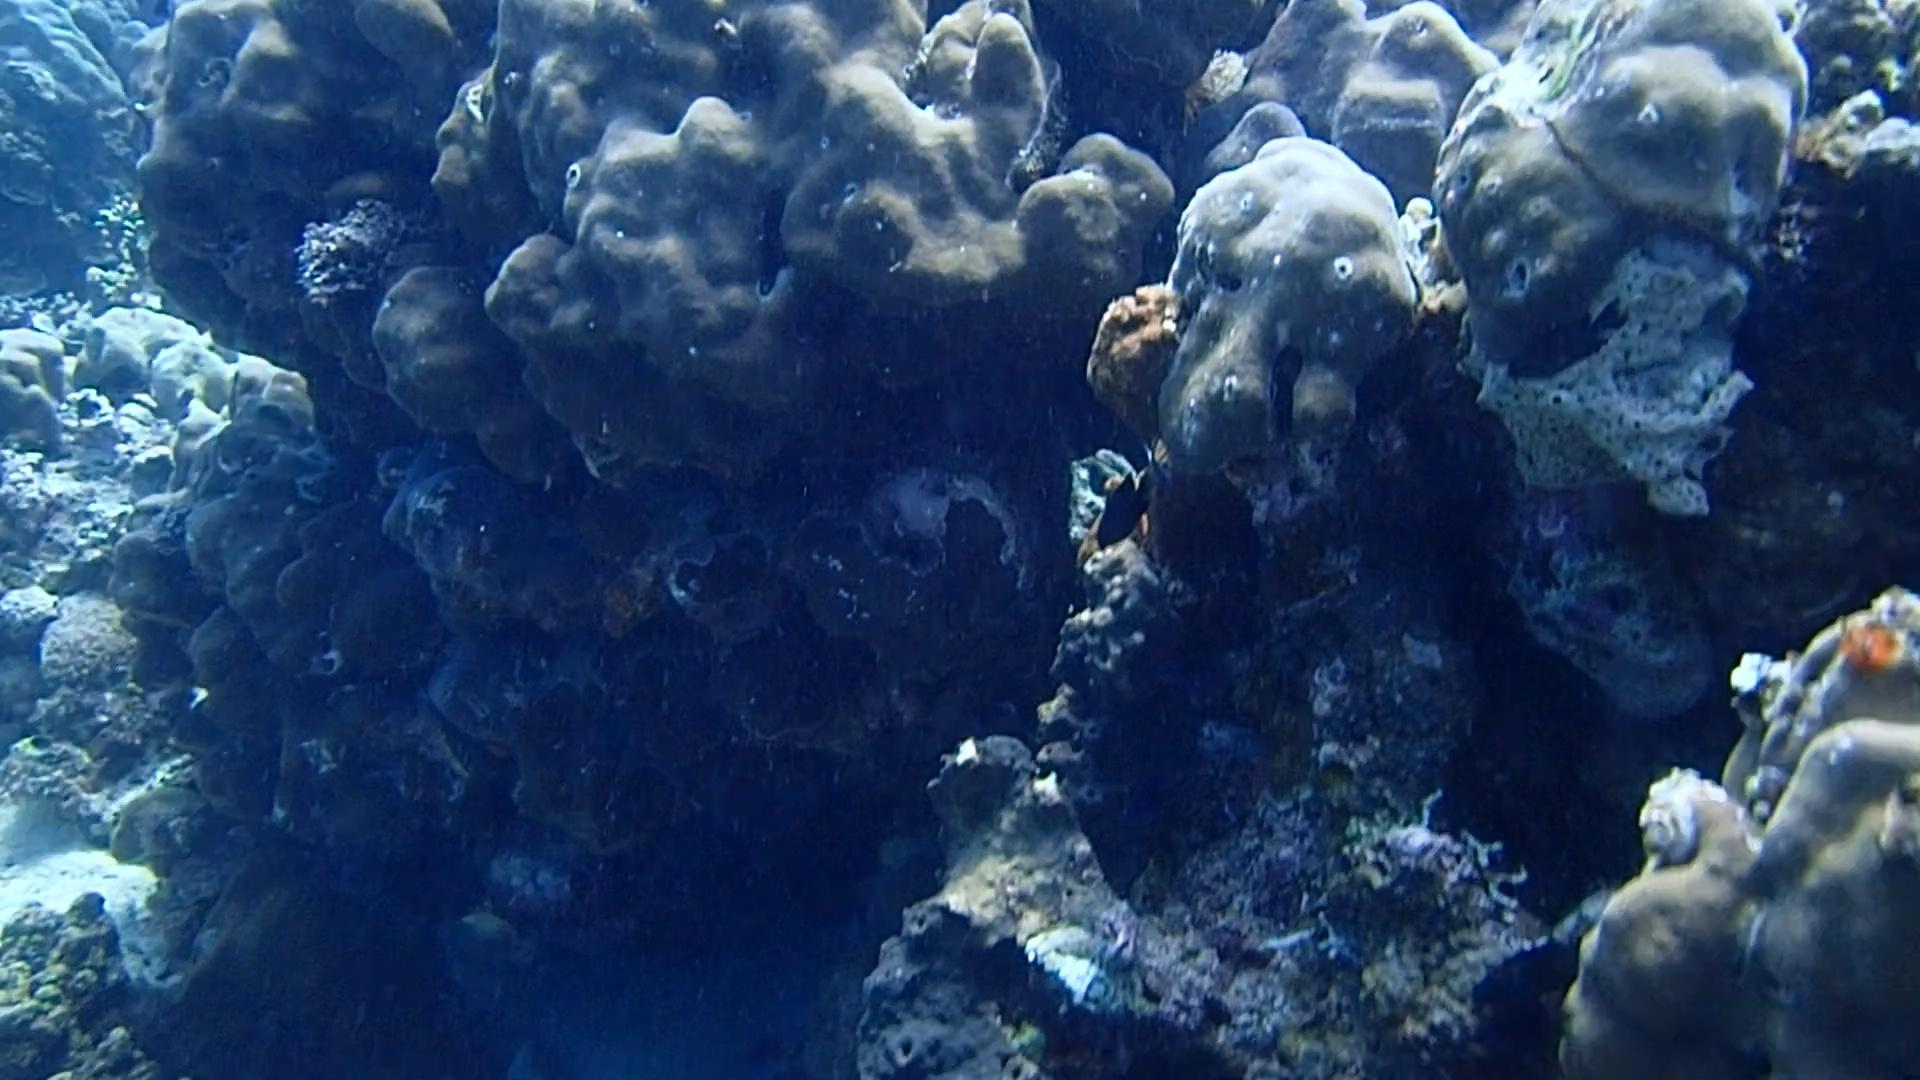Dark Fish: (1464, 928, 1594, 1013), (1465, 988, 1586, 1059), (1089, 460, 1160, 559)
